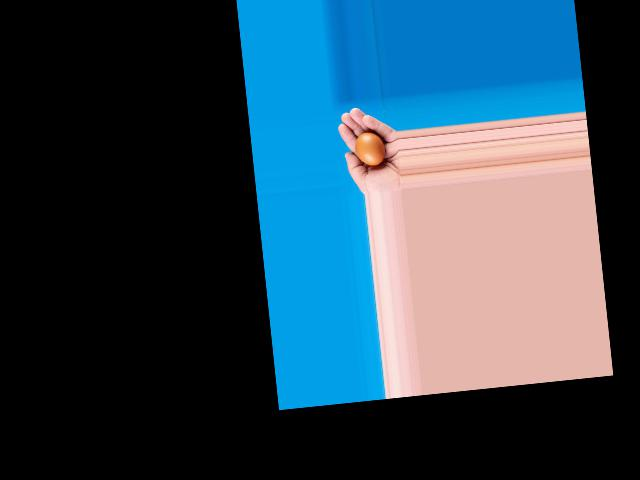egg: (354, 130, 385, 166)
